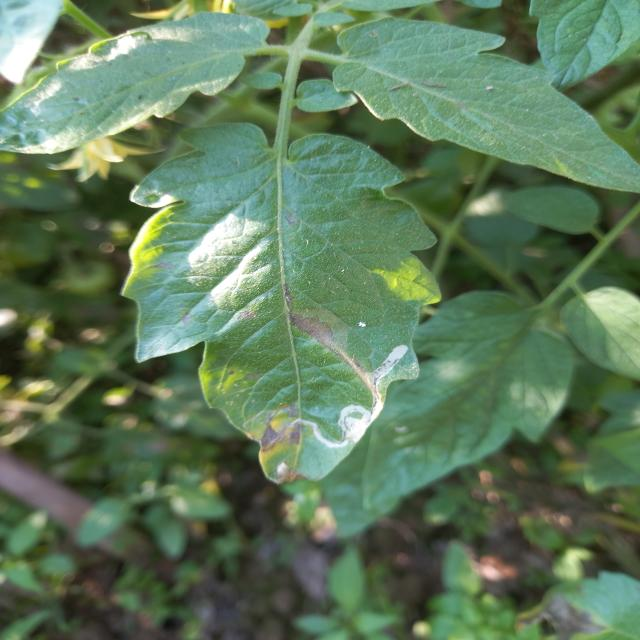Tuta absoluta: (301, 328, 409, 453)
